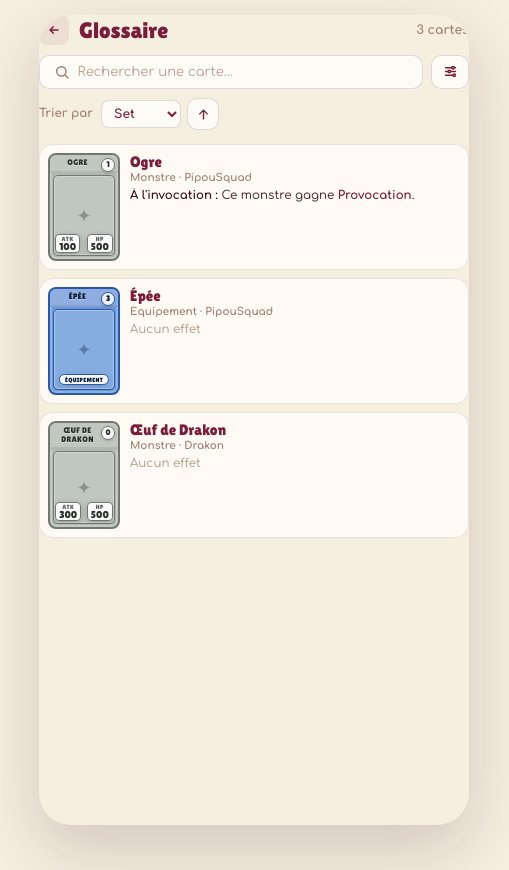
it: CardGlossary › filtre par rareté et coût dans le panneau replié
Check: the button with aria-label "Voir Ogre" is shown, box [39,144,469,270]
Click the button named "Filtres": (450, 72) [431,55,469,89]
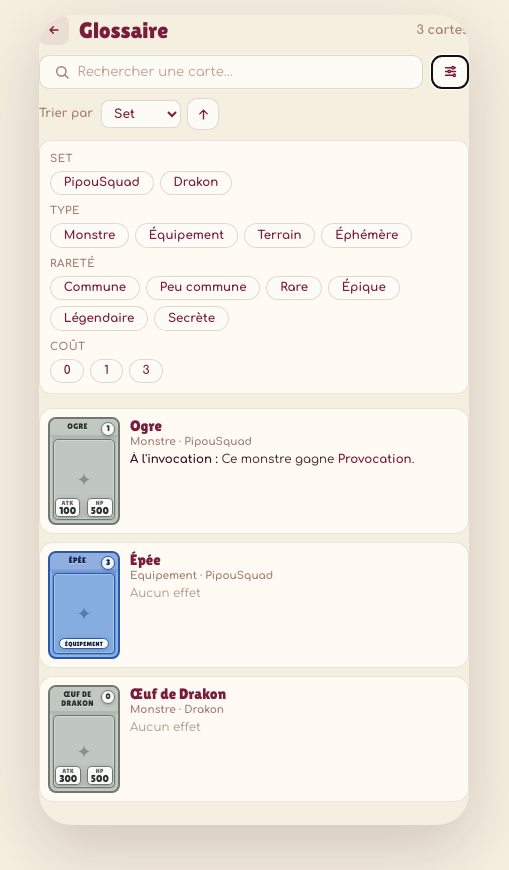
Click the button "Rare": (294, 288) [266,276,322,300]
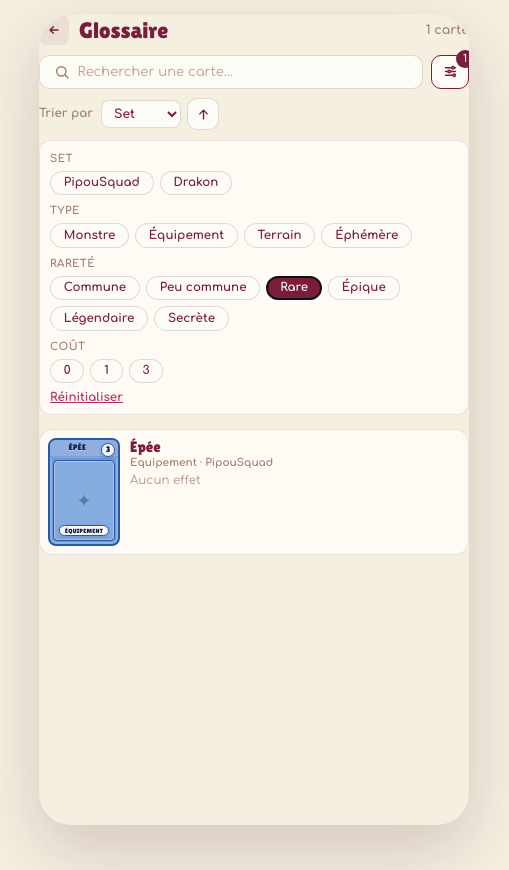
Check: the number of buttons named "Voir " is 1, box [39,429,469,555]
Check: the button named "Filtres" reads "1", box [431,55,469,89]
Click the button "Réinitialiser": (86, 398) [50,391,123,404]
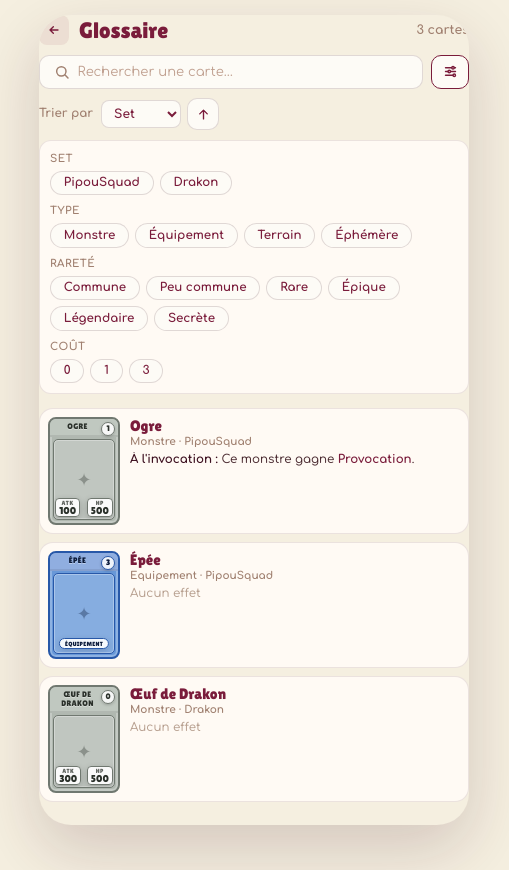
Check: the number of buttons "Drakon" is 1, box [160,171,232,195]
Check: the number of buttons named "Voir " is 3, box [39,408,469,534]; [39,542,469,668]; [39,676,469,802]
Click the button "1": (107, 371) [90,358,123,383]
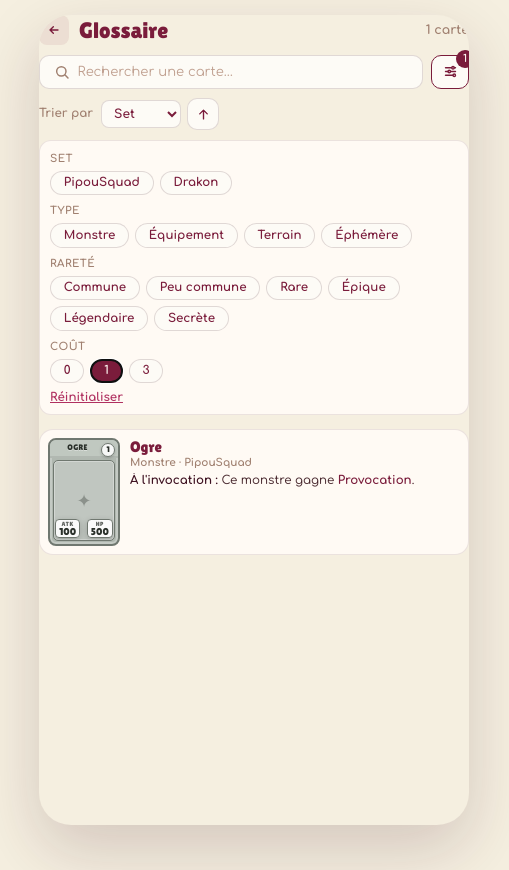
Check: the number of buttons named "Voir " is 1, box [39,429,469,555]
